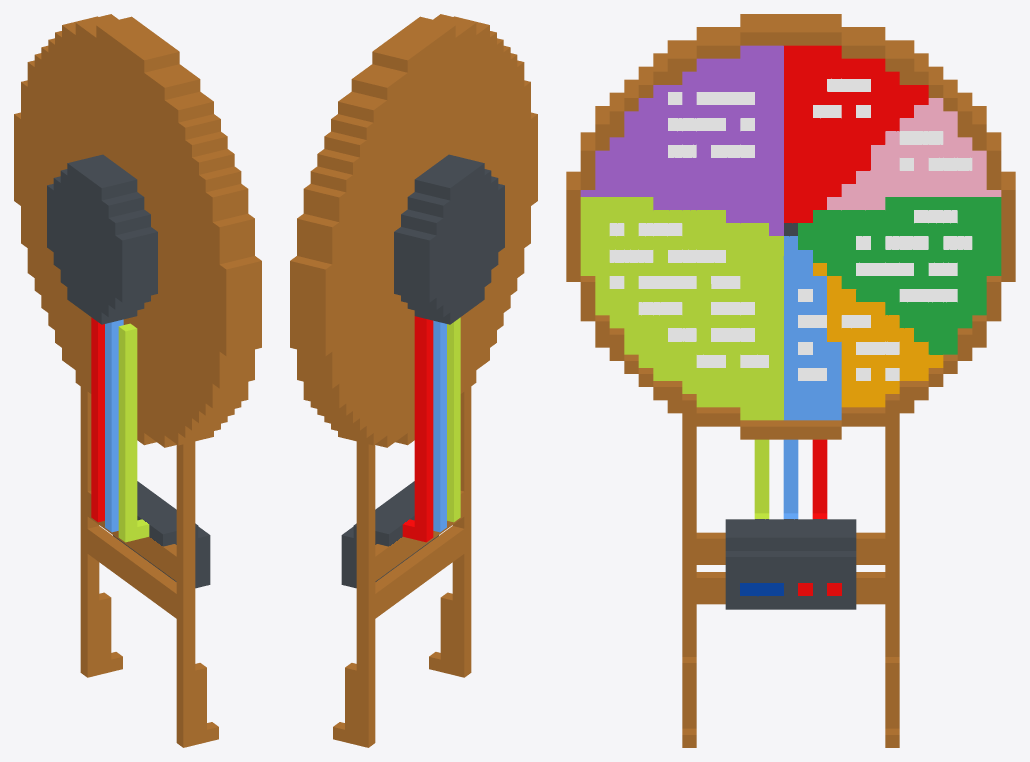
File: 幸运转盘.gltf
3 renders of one model, left to right at view 1: azimuth 30°, elevation 25°; view 2: azimuth 150°, elevation 25°; view 3: azimuth 270°, elevation 25°, orthographic. The views are drawn at different scales.
Visible parts, largest first — view 1: Object; view 2: Object; view 3: Object.
Boxes of the visible parts, x1=… form: Object: x1=14, y1=14, x2=261, y2=747; Object: x1=290, y1=14, x2=537, y2=747; Object: x1=566, y1=14, x2=1015, y2=747.
Bounding box in the file's own units: 8 × 54 × 31.
Materials: 1 (1 with a texture image).
